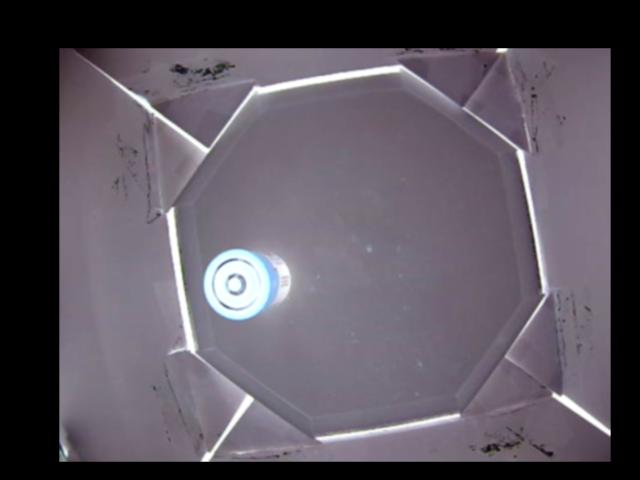Battery: (202, 247, 291, 319)
